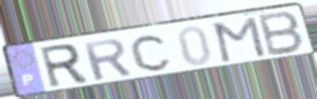0: (175, 24, 215, 68)
B: (257, 9, 306, 58)
C: (128, 32, 175, 73)
M: (212, 15, 269, 65)
R: (37, 42, 91, 91), (79, 37, 134, 83)
